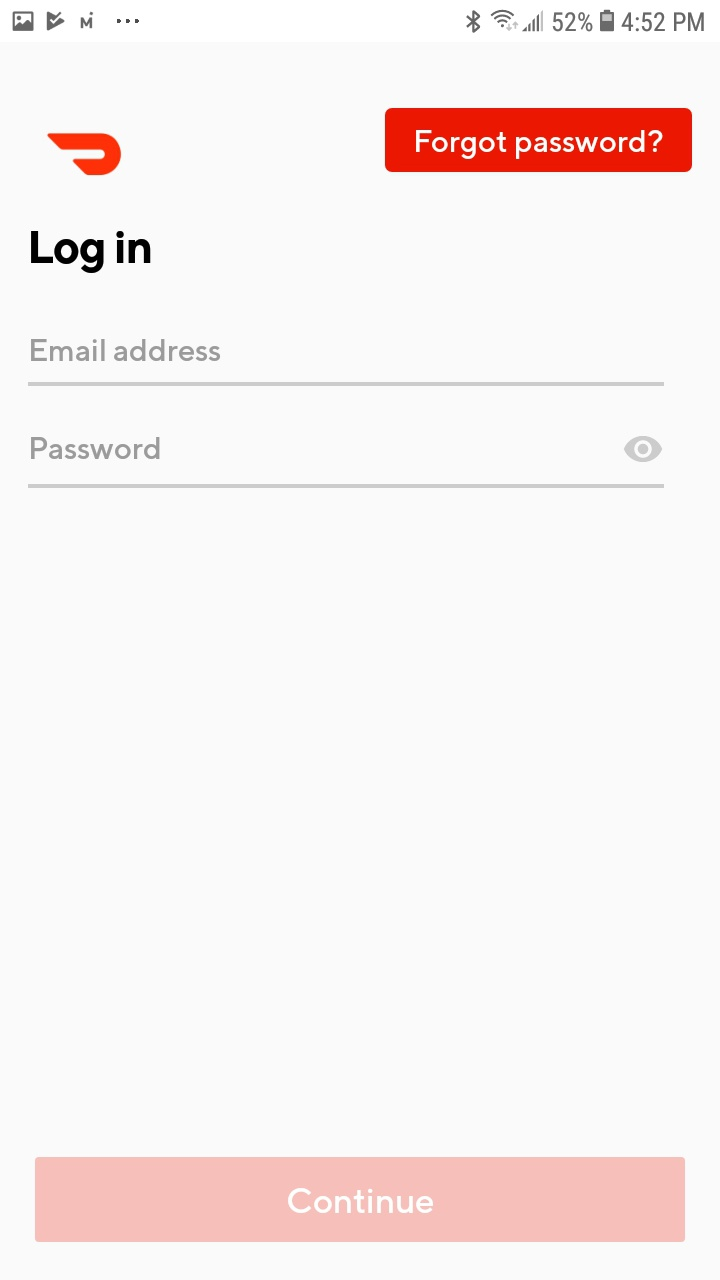EditText: (28, 436, 665, 489), (28, 339, 665, 387)
Icon: (623, 436, 663, 463)
Image: (47, 133, 122, 177)
Text: (31, 231, 152, 274), (31, 339, 221, 363), (31, 437, 161, 460)
TextButton: (35, 1157, 685, 1242), (385, 108, 692, 173)
UpperTaskBar: (1, 1, 720, 43)
